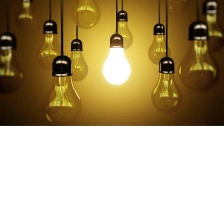light_bulb: (39, 53, 84, 126), (178, 21, 220, 93), (148, 56, 183, 114), (0, 30, 28, 98), (33, 17, 68, 70), (100, 32, 133, 86), (143, 22, 176, 67), (196, 2, 224, 52), (107, 8, 137, 52), (63, 38, 89, 80), (69, 0, 102, 31), (12, 0, 38, 35)
